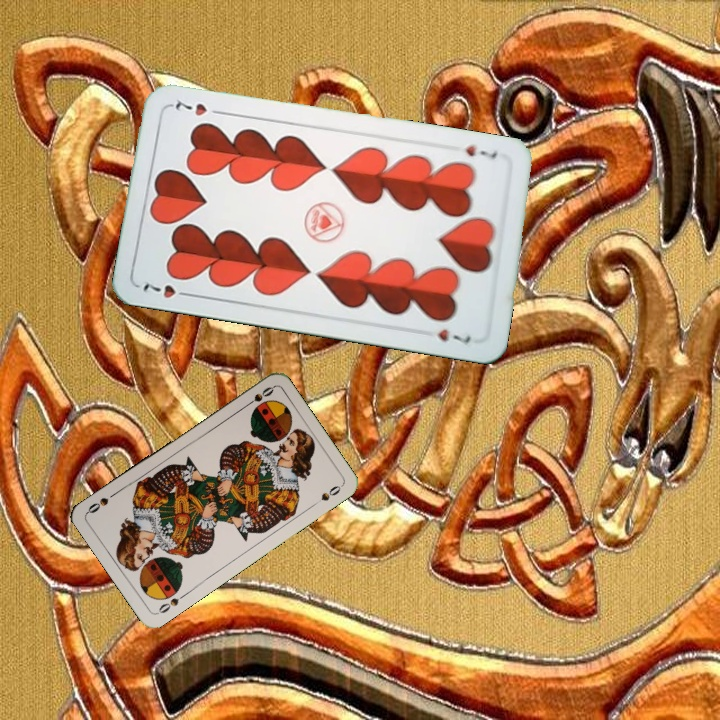H7: (139, 277, 195, 301), (461, 141, 500, 163)
SO: (240, 382, 277, 410), (153, 589, 189, 617)
